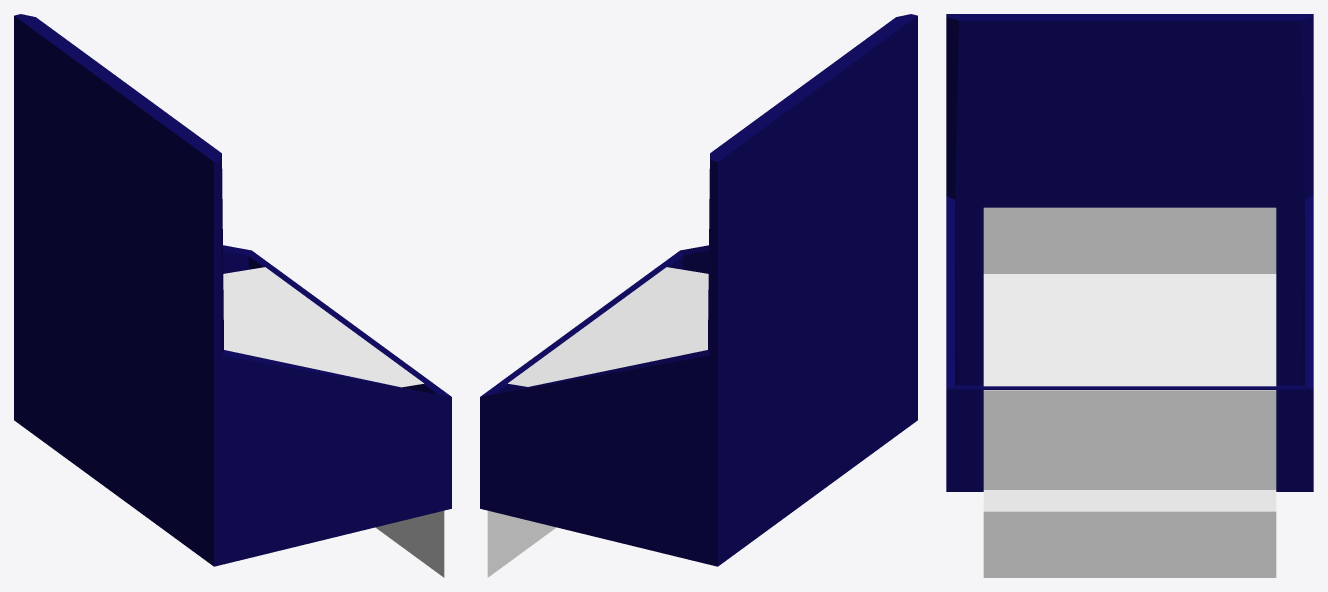
Rendered from Caja de latas o snacks 3.fbx.
The picture shows the model from 3 angles, left to right: view 1: azimuth 30°, elevation 25°; view 2: azimuth 150°, elevation 25°; view 3: azimuth 270°, elevation 25°; orthographic projection. The views are drawn at different scales.
Parts seen in each view (by area): view 1: Cube, Marcas Piratas-14; view 2: Cube, Marcas Piratas-14; view 3: Marcas Piratas-14, Cube.
Part boxes in pixels (bbox=[...]): Cube: bbox=[14, 14, 451, 566]; Marcas Piratas-14: bbox=[223, 266, 444, 577]; Cube: bbox=[480, 14, 917, 566]; Marcas Piratas-14: bbox=[487, 266, 708, 577]; Marcas Piratas-14: bbox=[983, 207, 1276, 577]; Cube: bbox=[946, 14, 1313, 491].
Bounding box in the file's own units: 466 × 875 × 645.
